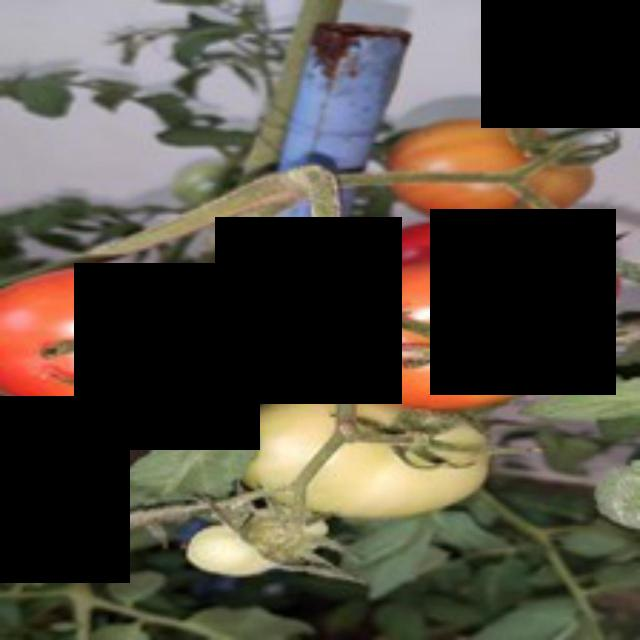tomato: (1, 258, 308, 418)
